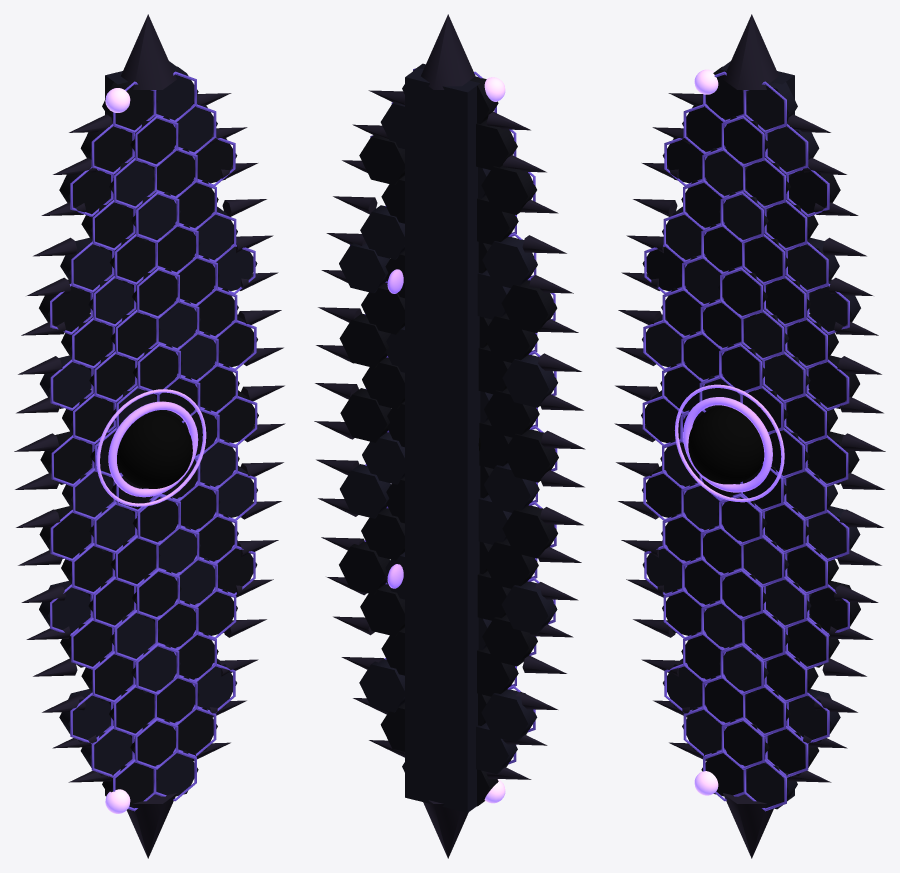
Rendered from erebus.glb.
3 renders of one model, left to right at view 1: azimuth 30°, elevation 25°; view 2: azimuth 150°, elevation 25°; view 3: azimuth 330°, elevation 25°, orthographic.
Parts seen in each view (by area): view 1: core, cap_L, core_ring, hex_57, hex_34, hex_25, hex_43, hex_68, hex_48, hex_61, cap_R, hex_5 (+62 smaller); view 2: spine, cap_L, hex_57, hex_5, hex_16, hex_25, hex_43, hex_52, hex_34, hex_64, hex_29, hex_20 (+34 smaller); view 3: core, cap_L, core_ring, hex_60, hex_72, hex_38, hex_29, hex_47, hex_70, hex_42, hex_51, hex_63 (+63 smaller).
Boxes of the visible parts, x1,y1,x2,y2 form: core: (117,410,192,488); cap_L: (121,14,176,89); core_ring: (108,401,198,497); hex_57: (60,237,111,290); hex_34: (40,431,92,484); hex_25: (39,506,91,558); hex_43: (40,355,91,408); hex_68: (80,122,132,173); hex_48: (61,313,112,366); hex_61: (81,196,133,249); cap_R: (126,793,176,858); hex_5: (59,689,110,742); spine: (405,68,480,812); cap_L: (421,14,475,89); hex_57: (482,237,537,287); hex_5: (481,689,537,742); hex_16: (501,581,557,634); hex_25: (502,505,557,558); hex_43: (502,355,557,407); hex_52: (501,280,557,332); hex_34: (503,429,558,482); hex_64: (481,166,536,214); hex_29: (340,464,390,518); hex_20: (339,541,389,594); core: (688,405,764,484); cap_L: (723,14,778,89); core_ring: (683,397,772,492); hex_60: (788,237,839,290); hex_72: (742,82,797,131); hex_38: (807,431,859,484); hex_29: (808,506,860,558); hex_47: (808,355,859,408); hex_70: (767,122,819,173); hex_42: (786,389,837,442); hex_51: (787,313,838,366); hex_63: (766,196,818,249).
Size of the model in its own units: 348 by 1032 by 108.
